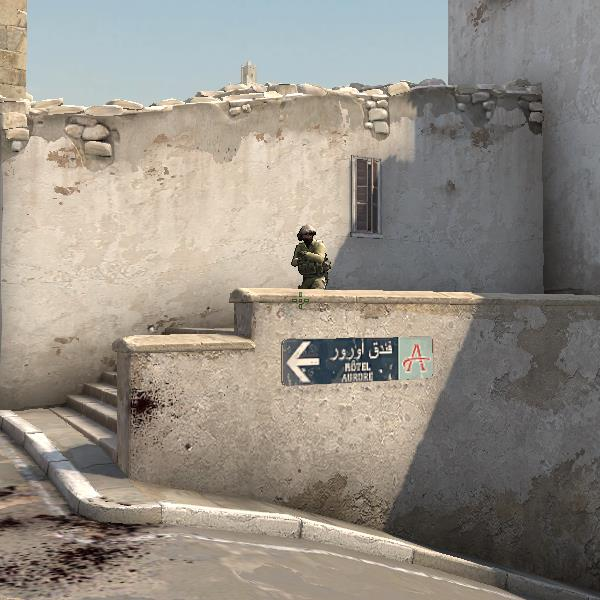ct_body: (290, 222, 334, 290)
ct_head: (298, 222, 320, 244)
